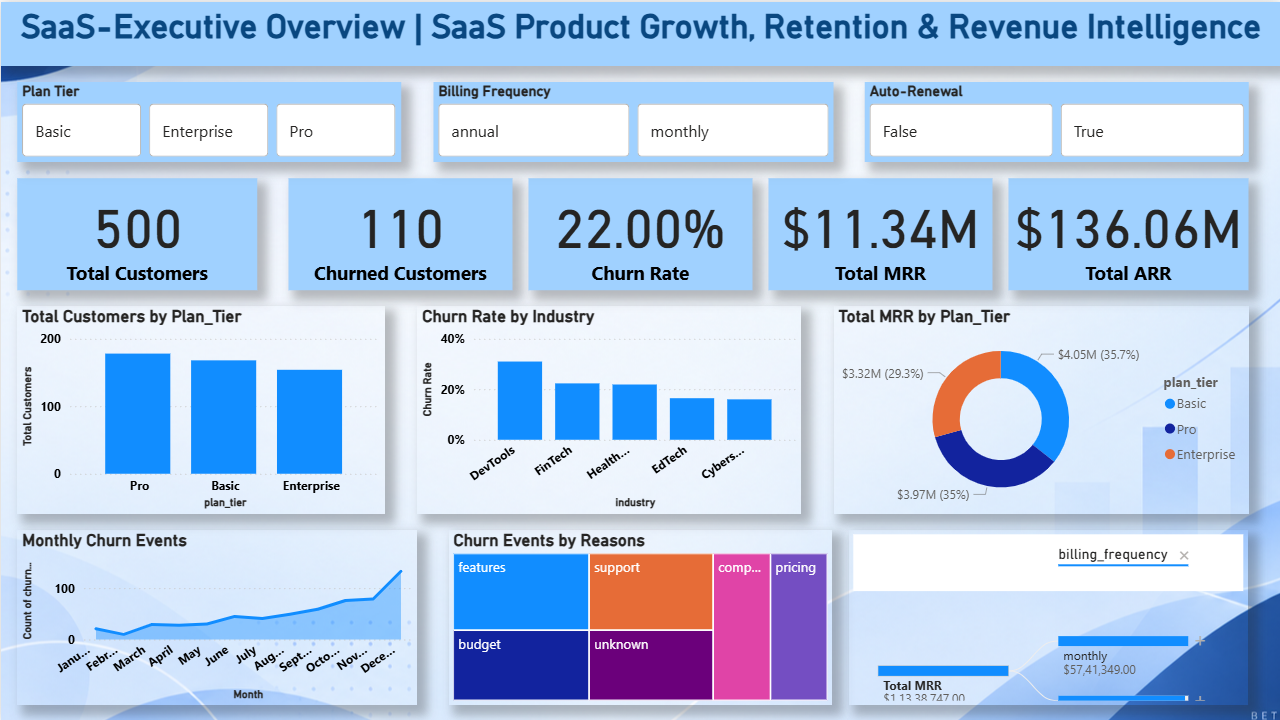

The dashboard page shown, as its layout file describes it:
{"tool":"powerbi","page":{"name":"Executive Overview","canvas":[1280,720],"ordinal":0},"visuals":[{"type":"card","fields":{"Values":["accounts_clean.Total Customers"]},"box":[16,176,240,112],"z":0},{"type":"card","fields":{"Values":["accounts_clean.Churned Customers"]},"box":[288,176,224,112],"z":1000},{"type":"card","fields":{"Values":["accounts_clean.Churn Rate"]},"box":[528,176,224,112],"z":2000},{"type":"card","fields":{"Values":["subscriptions_clean.Total MRR"]},"box":[768,176,224,112],"z":3000},{"type":"card","fields":{"Values":["subscriptions_clean.Total ARR"]},"box":[1008,176,240,112],"z":4000},{"type":"clusteredColumnChart","title":"Total Customers by Plan_Tier","fields":{"Category":["accounts_clean.plan_tier"],"Y":["accounts_clean.Total Customers"]},"box":[16,304,368,208],"z":5000},{"type":"clusteredColumnChart","title":"Churn Rate by Industry","fields":{"Category":["accounts_clean.industry"],"Y":["accounts_clean.Churn Rate"]},"box":[416,304,384,208],"z":6000},{"type":"donutChart","title":"Total MRR by Plan_Tier","fields":{"Category":["accounts_clean.plan_tier"],"Y":["subscriptions_clean.Total MRR"]},"box":[832,304,416,208],"z":7000},{"type":"treemap","title":"Churn Events by Reasons","fields":{"Group":["churn_events_clean.reason_code"],"Values":["CountNonNull(churn_events_clean.churn_event_id)"]},"box":[448,528,384,176],"z":8000},{"type":"areaChart","title":"Monthly Churn Events","fields":{"Category":["churn_events_clean.churn_date.Variation.Date Hierarchy.Month"],"Y":["CountNonNull(churn_events_clean.churn_event_id)"]},"box":[16,528,400,176],"z":9000},{"type":"decompositionTreeVisual","fields":{"Analyze":["subscriptions_clean.Total MRR"],"ExplainBy":["subscriptions_clean.billing_frequency","subscriptions_clean.auto_renew_flag","subscriptions_clean.plan_tier","accounts_clean.industry","subscriptions_clean.is_trial"]},"box":[848,528,400,176],"z":10000},{"type":"textbox","box":[0,0,1280,64],"z":11000},{"type":"advancedSlicerVisual","title":"Plan Tier","fields":{"Values":["accounts_clean.plan_tier"]},"box":[16,80,384,80],"z":12000},{"type":"advancedSlicerVisual","title":"Billing Frequency","fields":{"Values":["subscriptions_clean.billing_frequency"]},"box":[432,80,400,80],"z":13000},{"type":"advancedSlicerVisual","title":"Auto-Renewal","fields":{"Values":["subscriptions_clean.auto_renew_flag"]},"box":[864,80,384,80],"z":14000}]}

Visuals, with their boxes in screenshot pixels (x1, y1, x2, y2), scaled from the page's 1280x720 canvas onto the 1280x720 screenshot:
card - accounts_clean.Total Customers: (left=16, top=176, right=256, bottom=288)
card - accounts_clean.Churned Customers: (left=288, top=176, right=512, bottom=288)
card - accounts_clean.Churn Rate: (left=528, top=176, right=752, bottom=288)
card - subscriptions_clean.Total MRR: (left=768, top=176, right=992, bottom=288)
card - subscriptions_clean.Total ARR: (left=1008, top=176, right=1248, bottom=288)
"Total Customers by Plan_Tier" clusteredColumnChart: (left=16, top=304, right=384, bottom=512)
"Churn Rate by Industry" clusteredColumnChart: (left=416, top=304, right=800, bottom=512)
"Total MRR by Plan_Tier" donutChart: (left=832, top=304, right=1248, bottom=512)
"Churn Events by Reasons" treemap: (left=448, top=528, right=832, bottom=704)
"Monthly Churn Events" areaChart: (left=16, top=528, right=416, bottom=704)
decompositionTreeVisual - subscriptions_clean.Total MRR x subscriptions_clean.billing_frequency: (left=848, top=528, right=1248, bottom=704)
textbox: (left=0, top=0, right=1279, bottom=64)
"Plan Tier" advancedSlicerVisual: (left=16, top=80, right=400, bottom=160)
"Billing Frequency" advancedSlicerVisual: (left=432, top=80, right=832, bottom=160)
"Auto-Renewal" advancedSlicerVisual: (left=864, top=80, right=1248, bottom=160)
